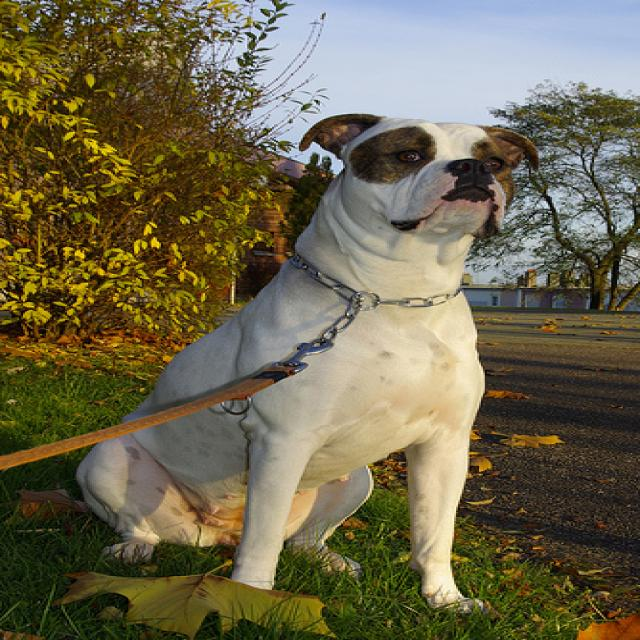dog-american_bulldog: (61, 99, 544, 604)
